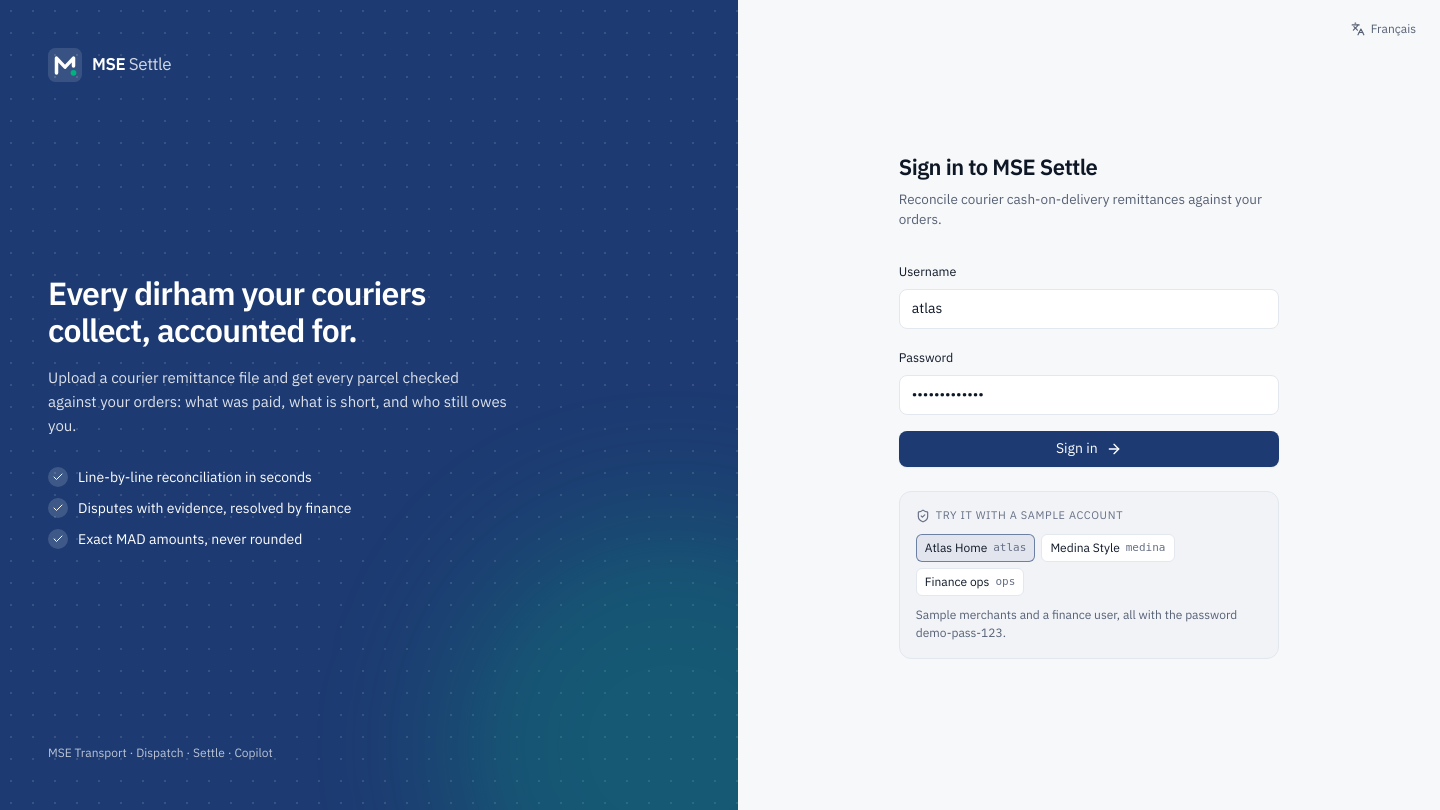
it: LoginPage › shows a friendly message on bad credentials
The width and height of the screenshot is (1440, 810).
Type "wrong" into the password field labelled "Password" at (1089,394), box [899,374,1279,414]
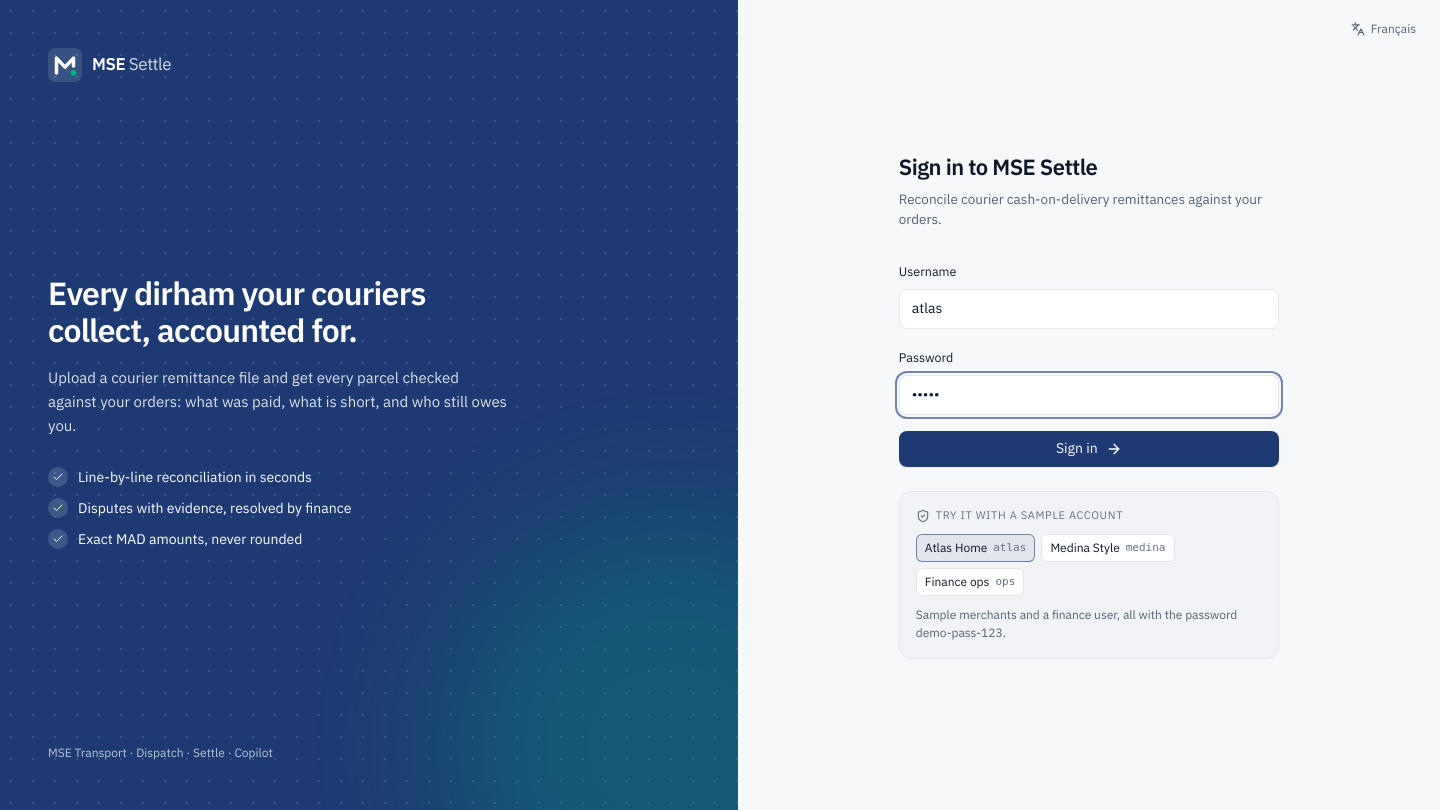
Click the button "Sign in" at (1089,448), box [899,430,1279,466]
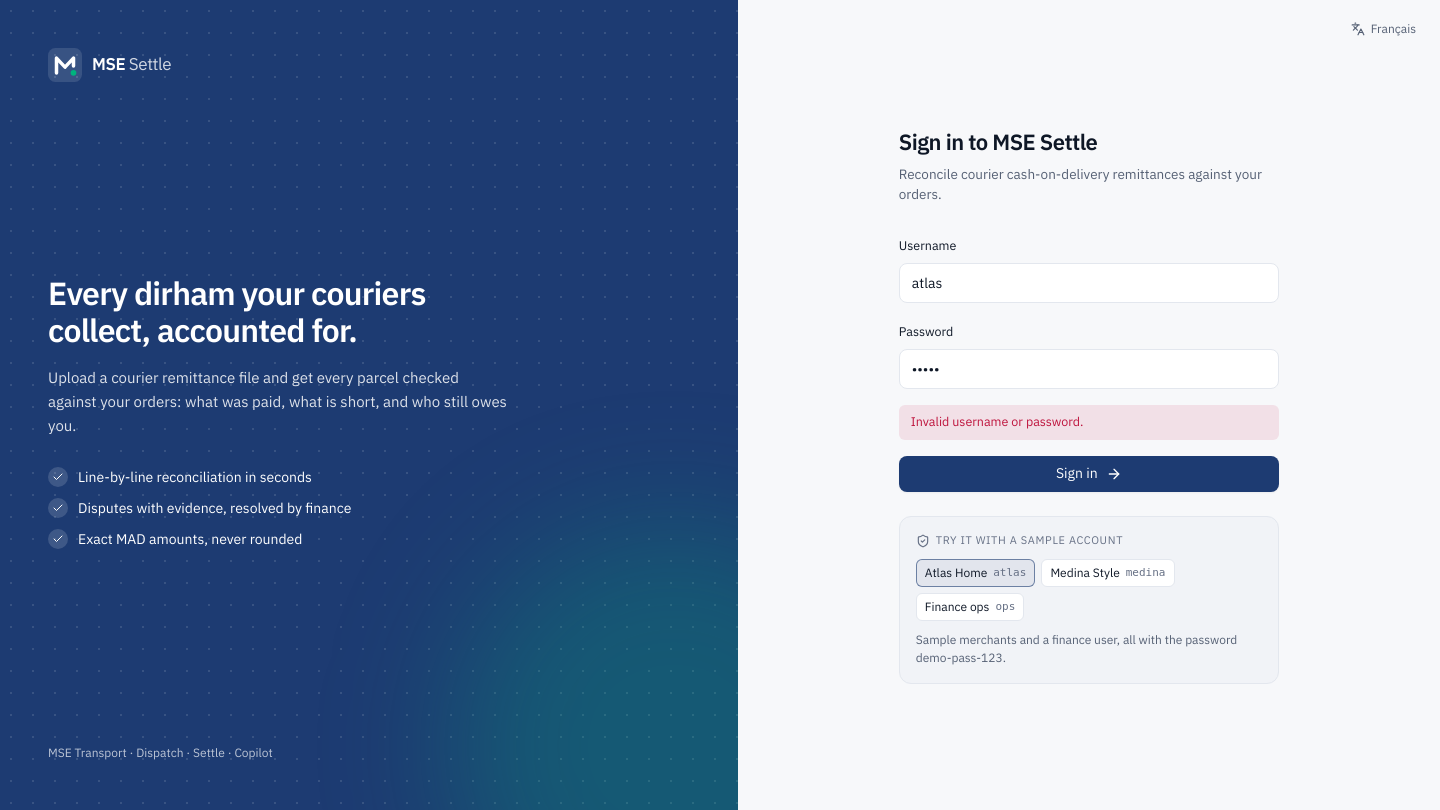
Now the message reads "Invalid username or password.", box [911,412,1084,431]
